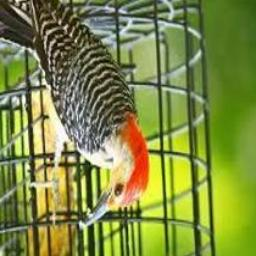Woodpecker: (0, 0, 150, 231)
